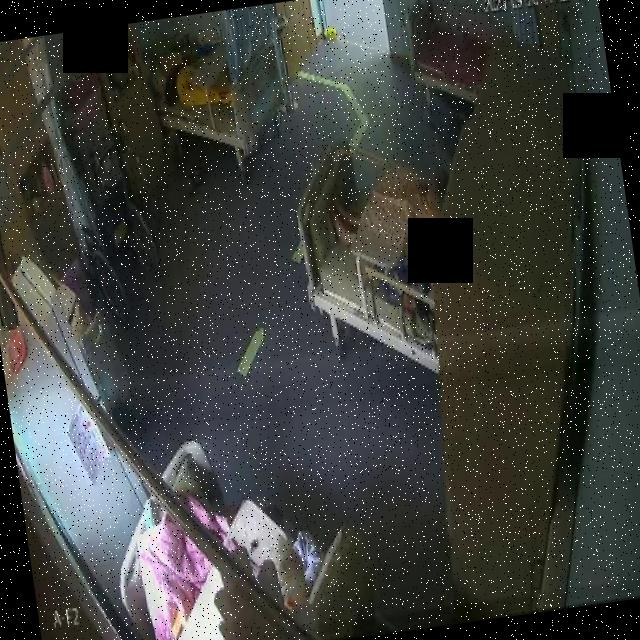bed: (100, 417, 371, 640), (290, 132, 464, 378), (148, 23, 293, 158), (400, 0, 497, 110)
